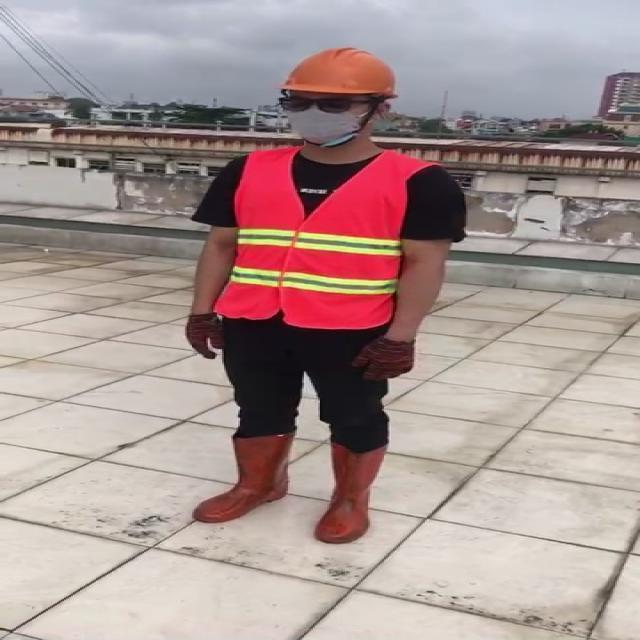gloves: (352, 336, 426, 386), (184, 305, 223, 364)
goggles: (274, 92, 362, 120)
helmet: (282, 44, 408, 100)
safety_vest: (219, 152, 407, 327)
